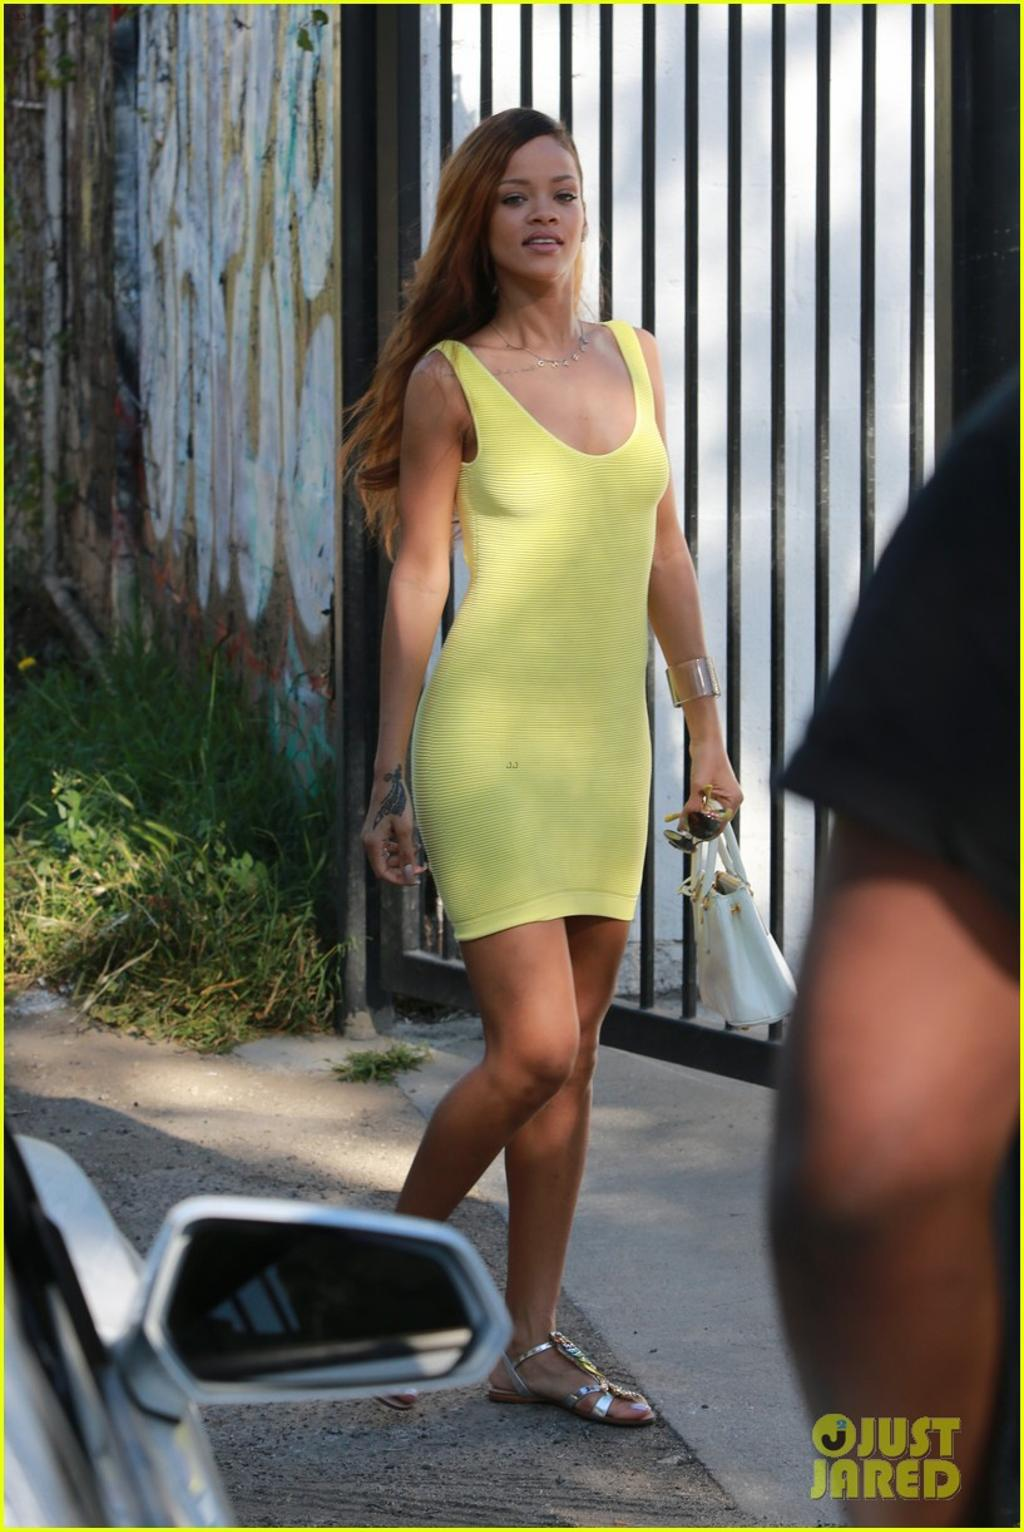face: (477, 142, 591, 277)
